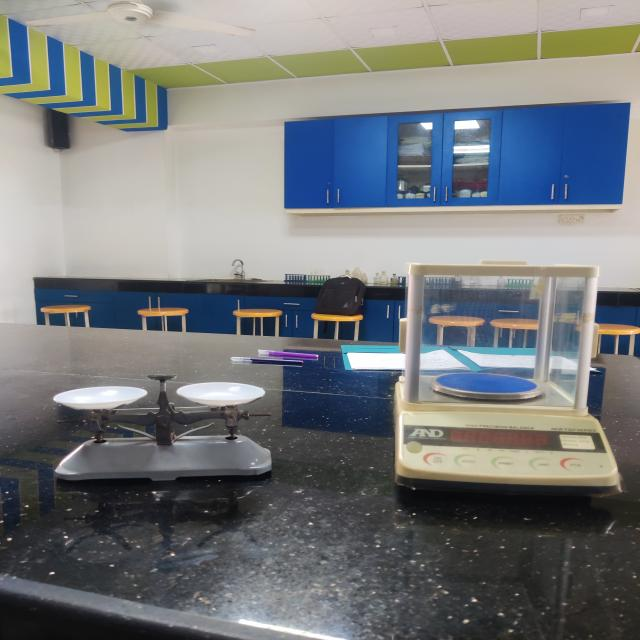Mechanical_Balance_Scale: (24, 340, 316, 509)
Precision_Weight_Scale: (361, 236, 640, 544)
